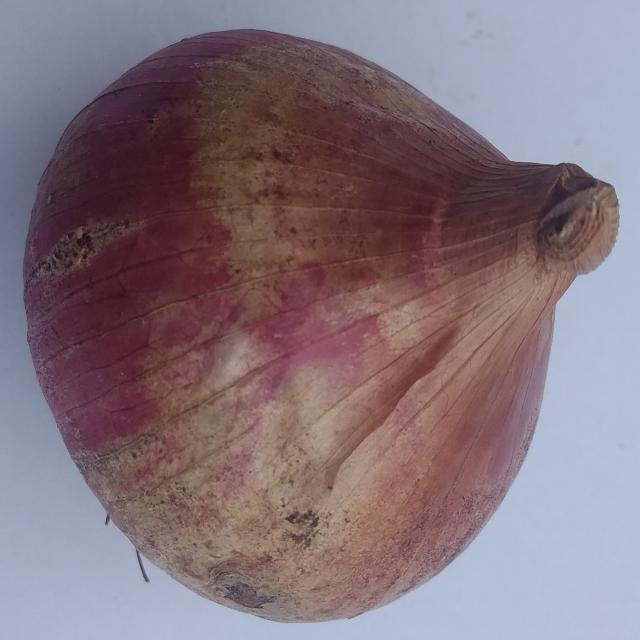onion: (20, 23, 623, 624)
